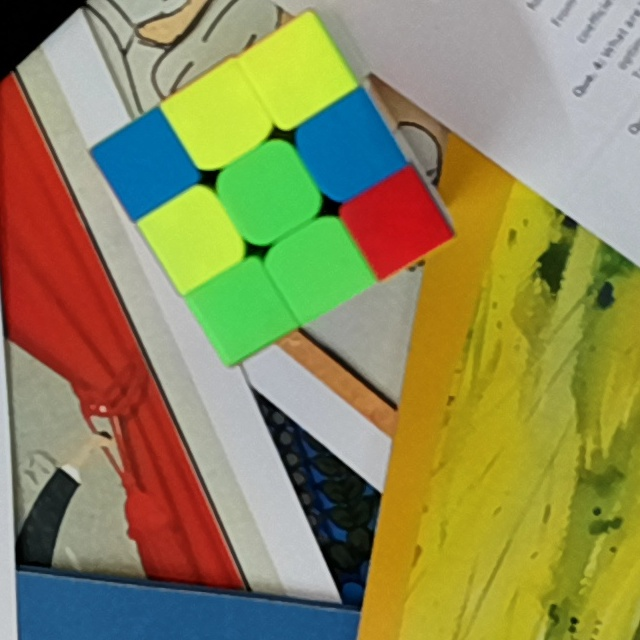tile: (234, 163, 302, 222), (266, 41, 330, 103), (315, 117, 379, 179), (161, 207, 223, 268), (190, 88, 249, 148), (287, 239, 350, 295), (366, 194, 427, 250), (115, 136, 172, 191), (214, 281, 272, 335)
